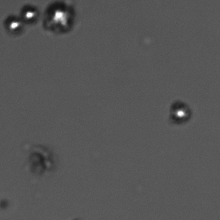Dead Cell: (26, 146, 54, 174)
Living Cell: (43, 2, 76, 34), (169, 99, 192, 124), (20, 5, 38, 24), (5, 15, 22, 35)
